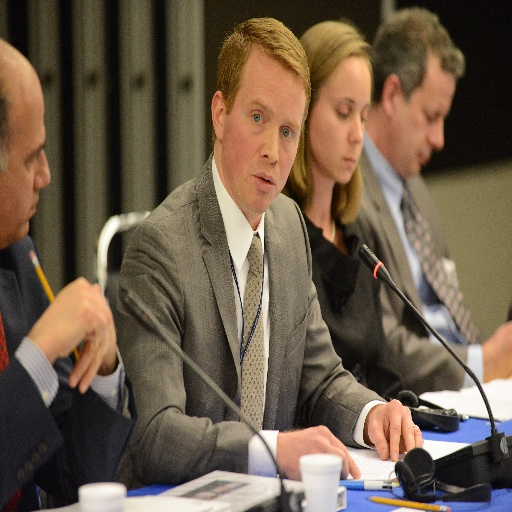hand: (36, 274, 112, 362), (66, 300, 117, 394), (279, 423, 361, 481), (369, 401, 427, 464), (486, 320, 511, 380)
